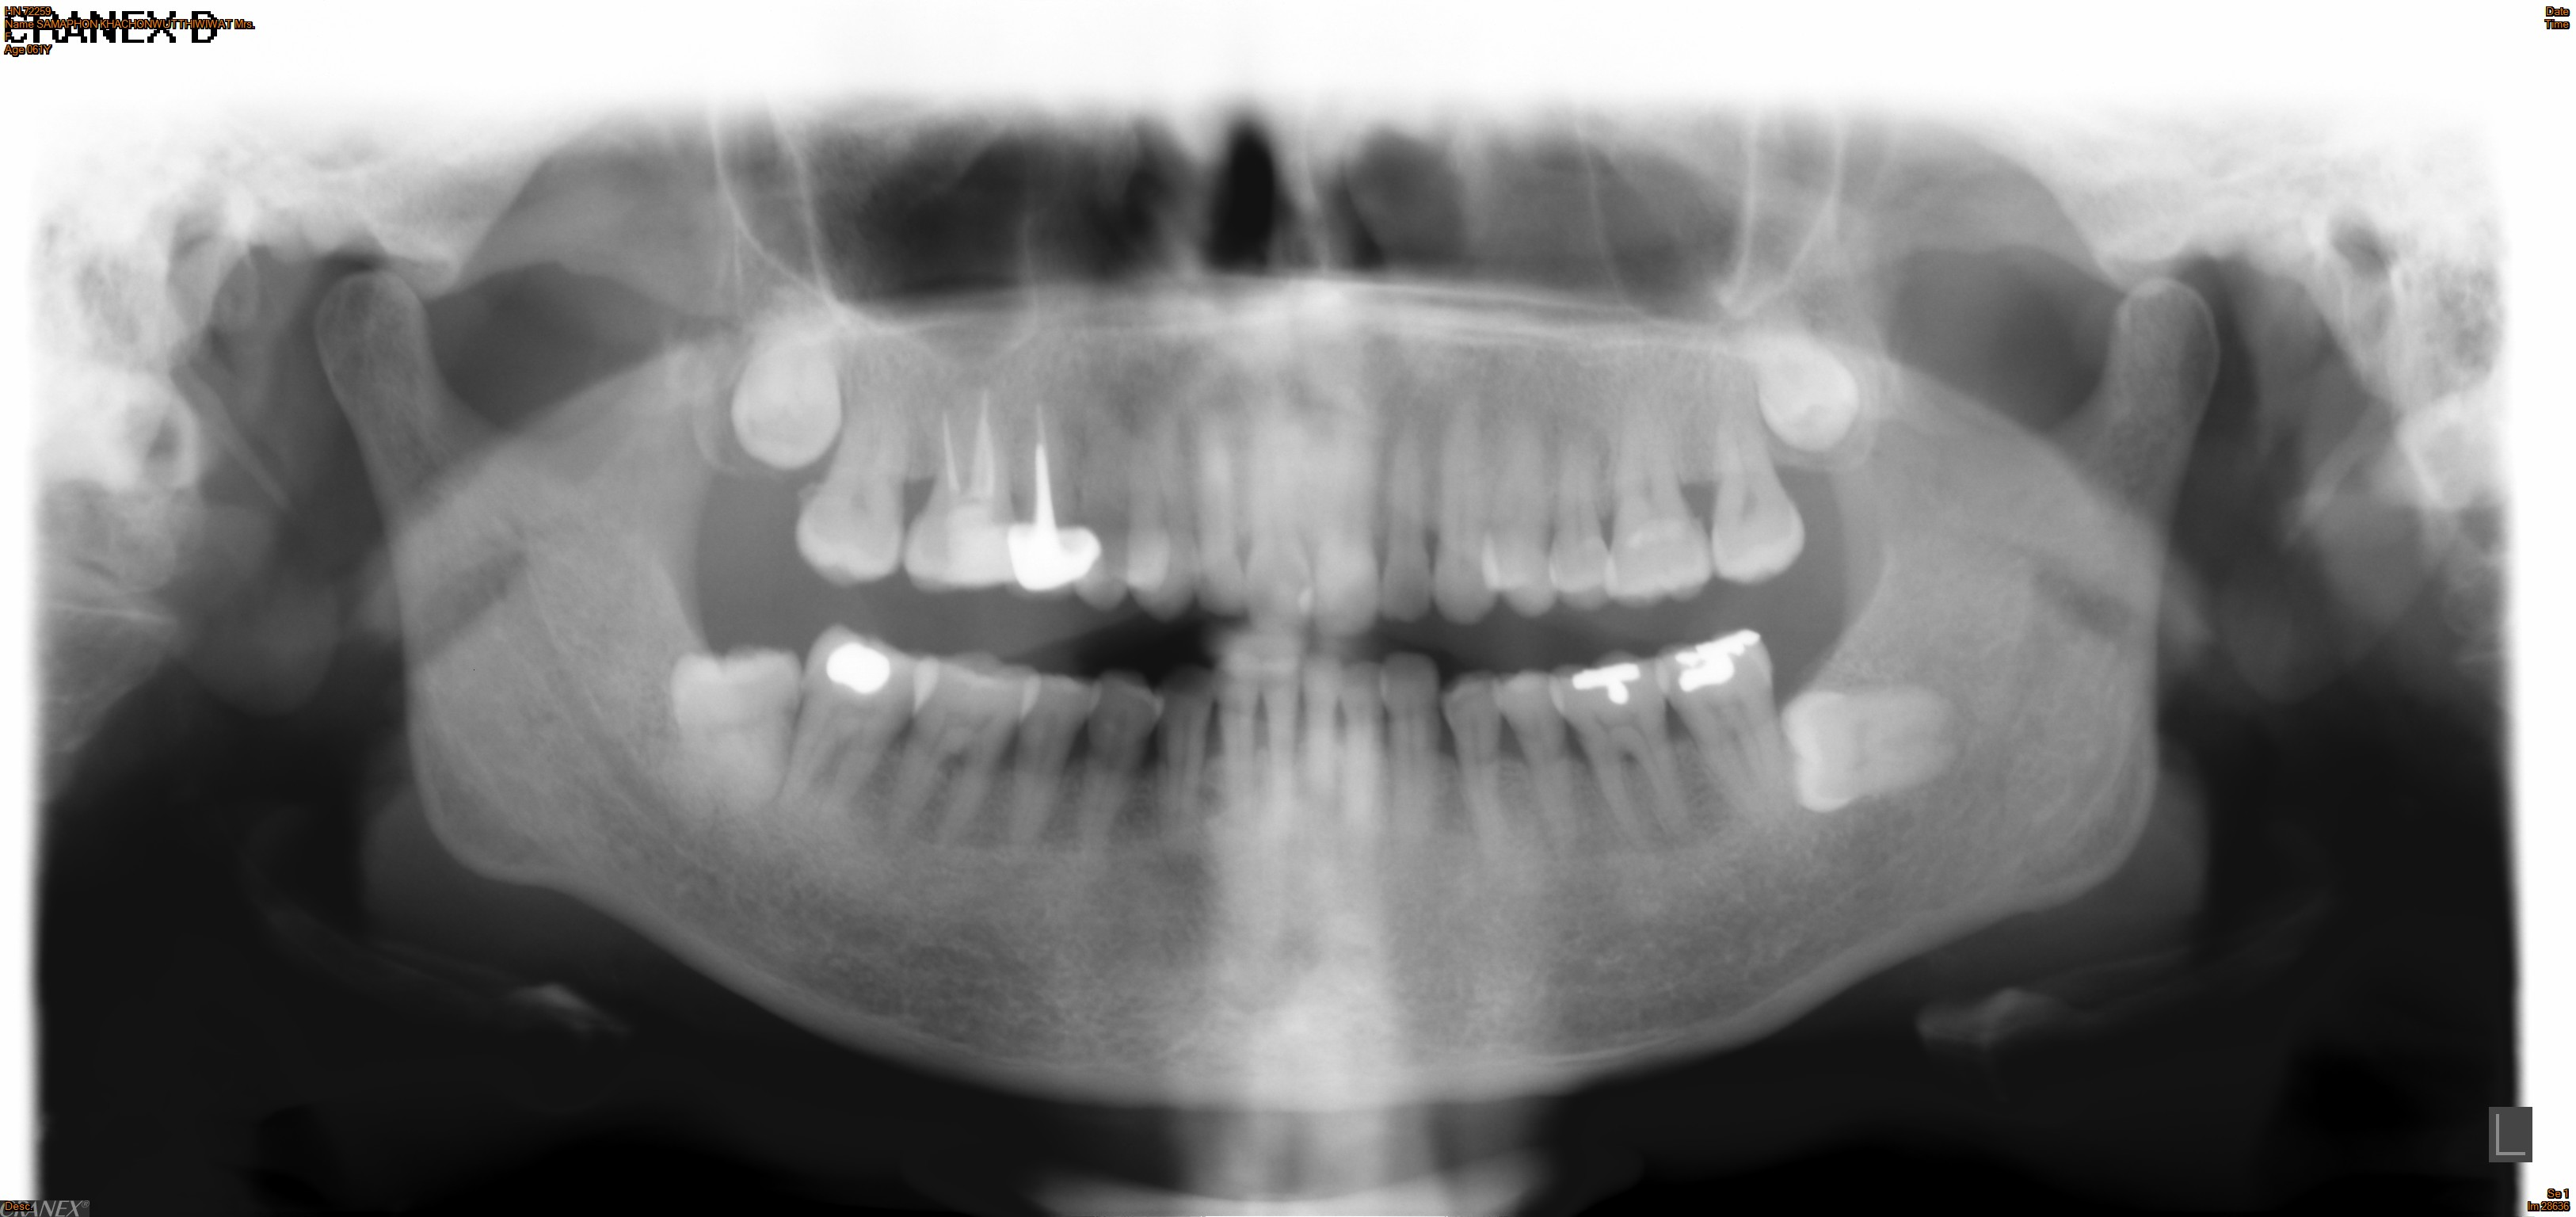periodontitis: (866, 641, 1045, 854), (1541, 650, 1702, 866), (889, 374, 1040, 599), (785, 351, 925, 588), (1592, 368, 1722, 613), (1695, 361, 1810, 595)
